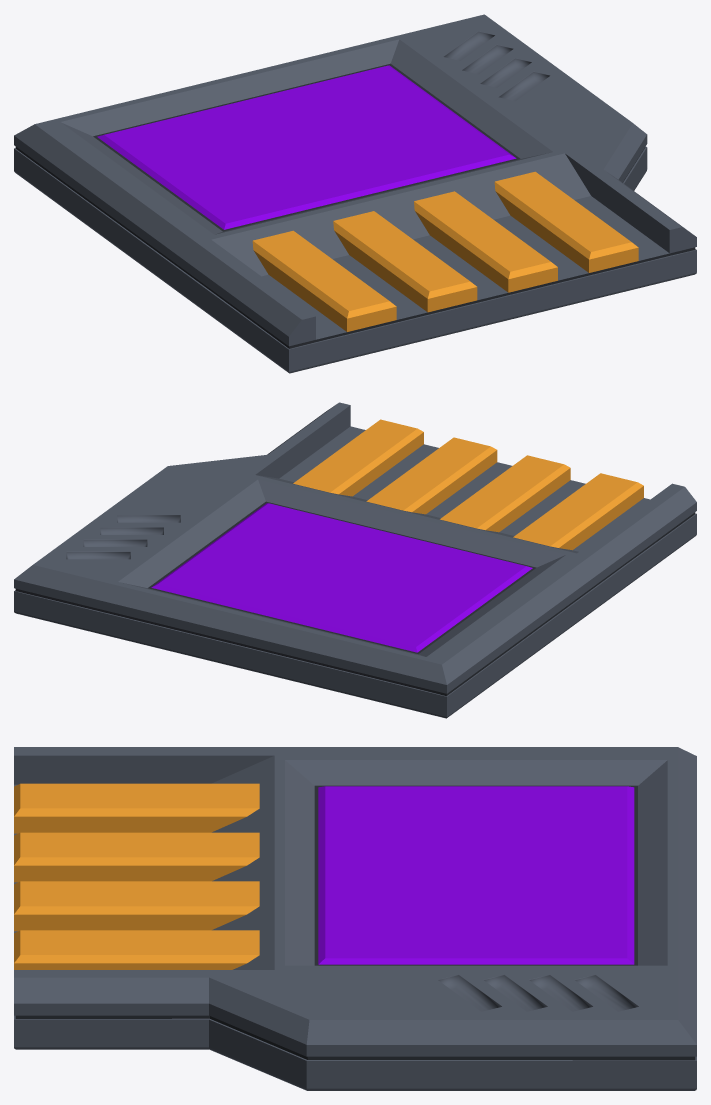
The model's file is newChip.fbx.
The picture shows the model from 3 angles, top to bottom: view 1: azimuth 30°, elevation 25°; view 2: azimuth 150°, elevation 25°; view 3: azimuth 270°, elevation 25°; orthographic projection. The views are drawn at different scales.
Parts seen in each view (by area): view 1: Vert; view 2: Vert; view 3: Vert.
Boxes of the visible parts, box(x1,y1,x2,y2) form: Vert: box(14, 14, 696, 373); Vert: box(14, 402, 696, 718); Vert: box(14, 747, 696, 1090).
Size of the model in its own units: 87.5 by 9.1 by 87.5.
